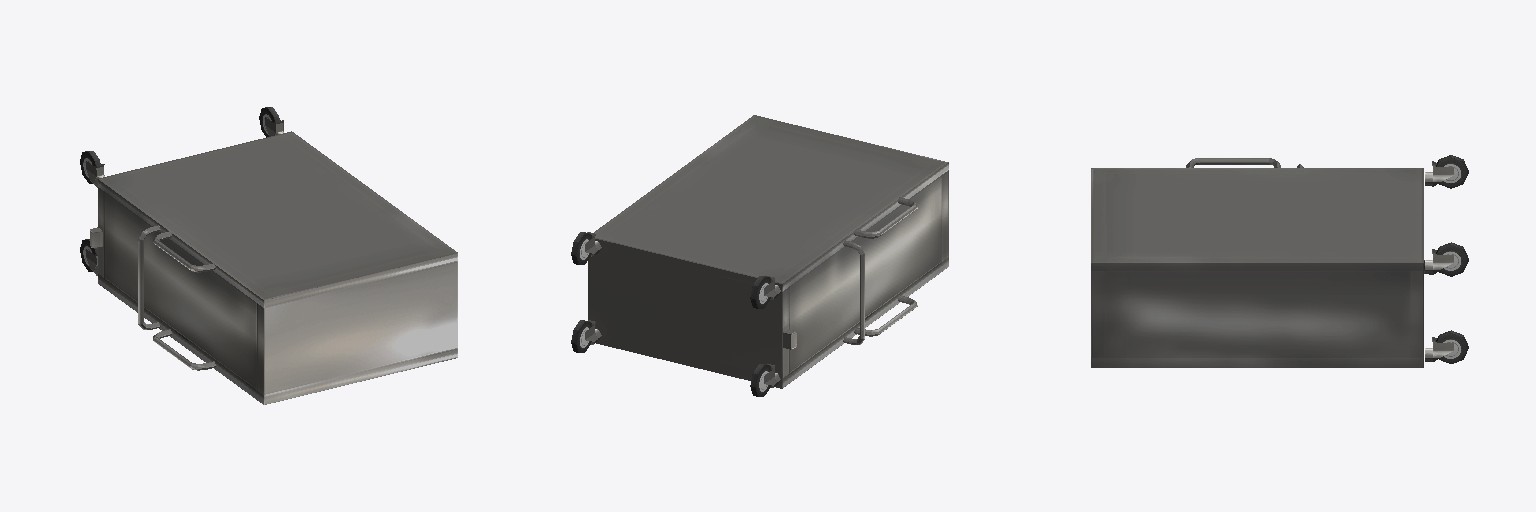
3 views of the same model, side by side, from view 1: azimuth 30°, elevation 25°; view 2: azimuth 150°, elevation 25°; view 3: azimuth 270°, elevation 25° (orthographic).
Visible parts, largest first — view 1: ScrubsTrolley; view 2: ScrubsTrolley; view 3: ScrubsTrolley.
Boxes of the visible parts, <box> form: ScrubsTrolley: <box>80,107,457,404</box>; ScrubsTrolley: <box>571,115,948,396</box>; ScrubsTrolley: <box>1091,155,1468,367</box>.
Bounding box in the file's own units: 0.8058 × 0.4368 × 1.22.
Materials: 1 (1 with a texture image).